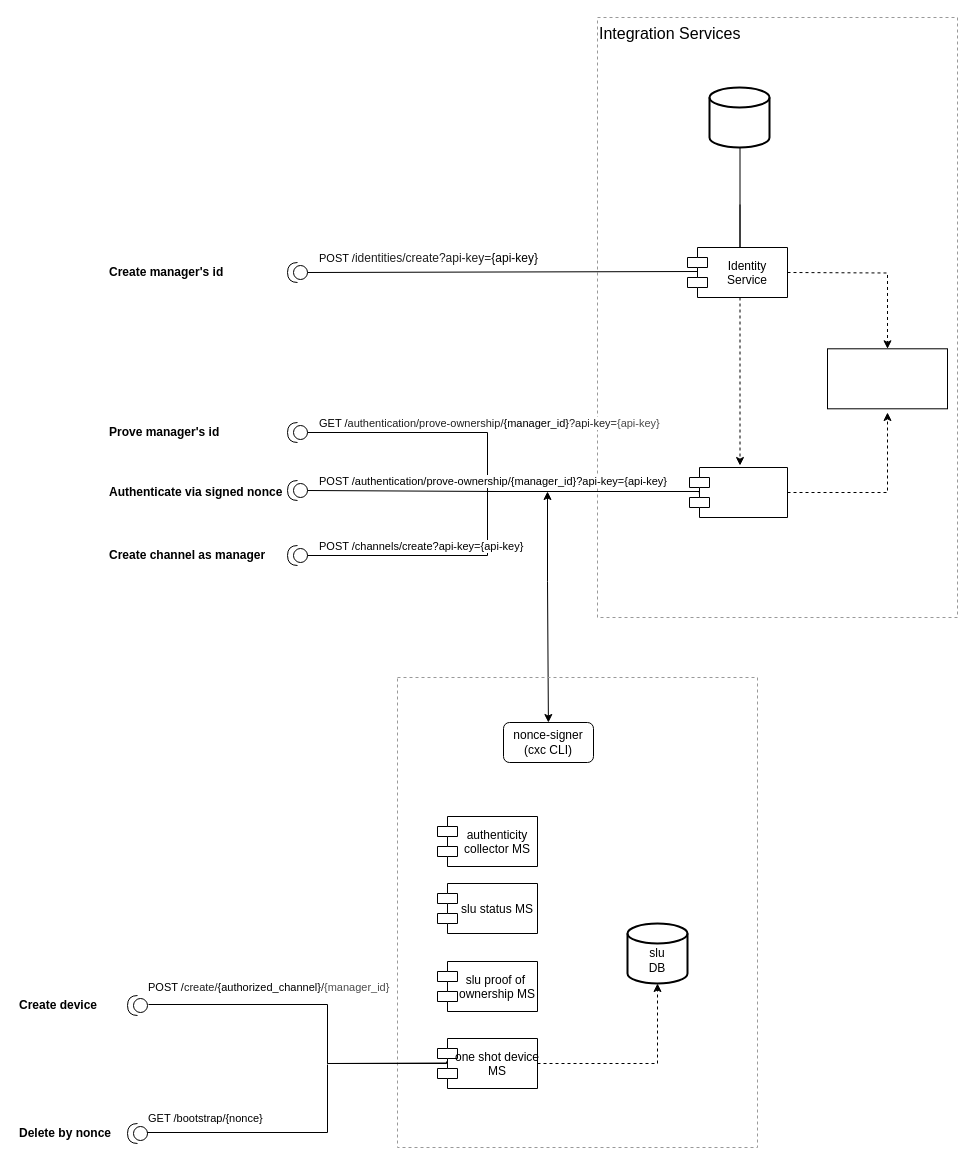
Image size: 975x1165. Some labels were removed from this diagram. Here are the shapes that lost their labels. From the top down, the box of each, then its label:
(708, 86, 770, 148): Identities DB
(826, 348, 948, 409): IOTA Identity (SsiService)
(688, 466, 788, 518): Authentication Service
(396, 676, 758, 1148): cxc-slu-authenticity
